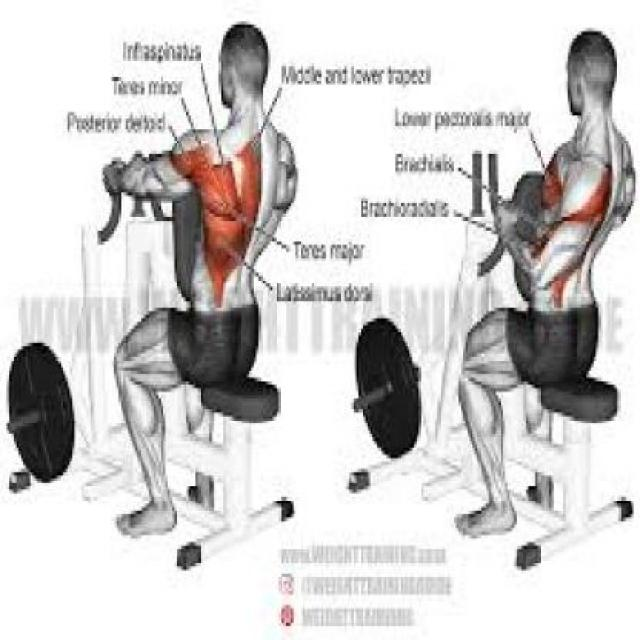Seated Cable Rows: (0, 14, 309, 592), (331, 18, 640, 596)
